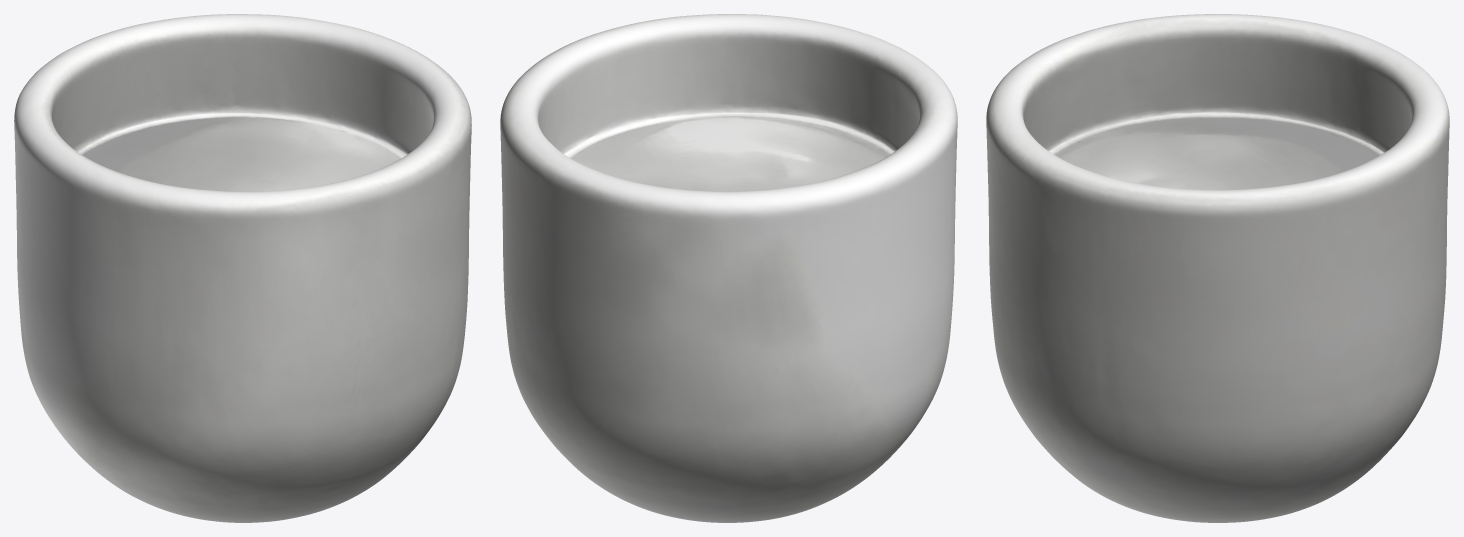
Rendered from cup.glb.
3 views of the same model, side by side, from view 1: azimuth 30°, elevation 25°; view 2: azimuth 150°, elevation 25°; view 3: azimuth 270°, elevation 25° (orthographic).
Parts seen in each view (by area): view 1: model; view 2: model; view 3: model.
Boxes of the visible parts, x1,y1,x2,y2 form: model: (14,14,471,522); model: (500,14,957,522); model: (986,14,1449,522).
Bounding box in the file's own units: 1.8 × 1.7 × 1.83.
1 material, 1 textured.
